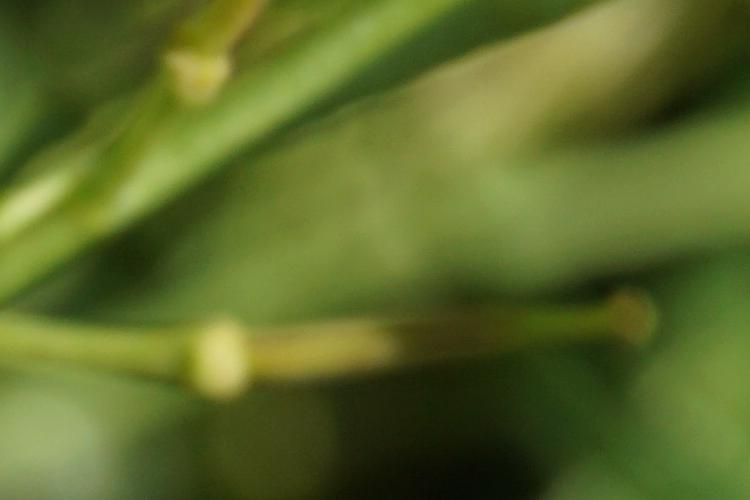pod: (143, 277, 682, 402)
